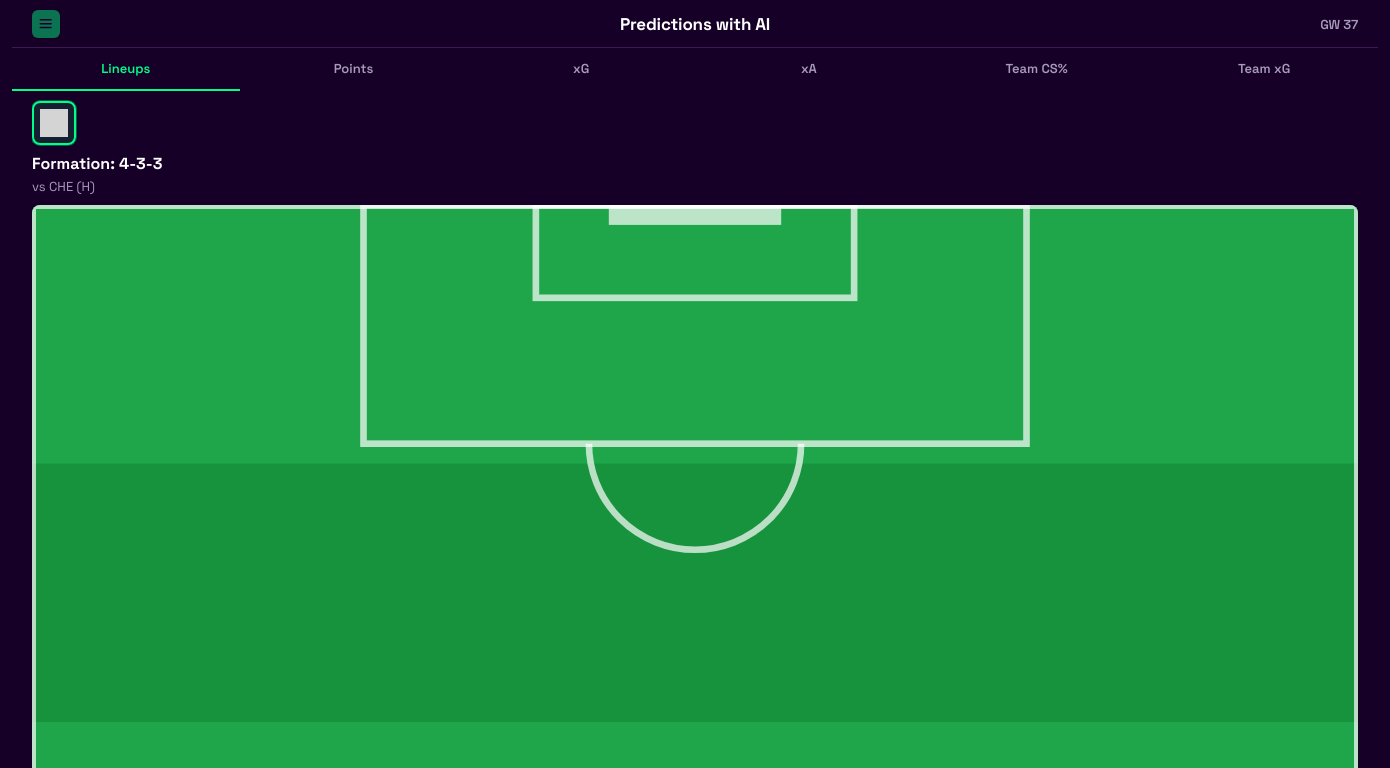
PredictionsScreen › Points tab › shows all players without lock for premium user
The image size is (1390, 768).
Step 1. Click the tab "Points" → [354, 70], box [240,48,467,91]
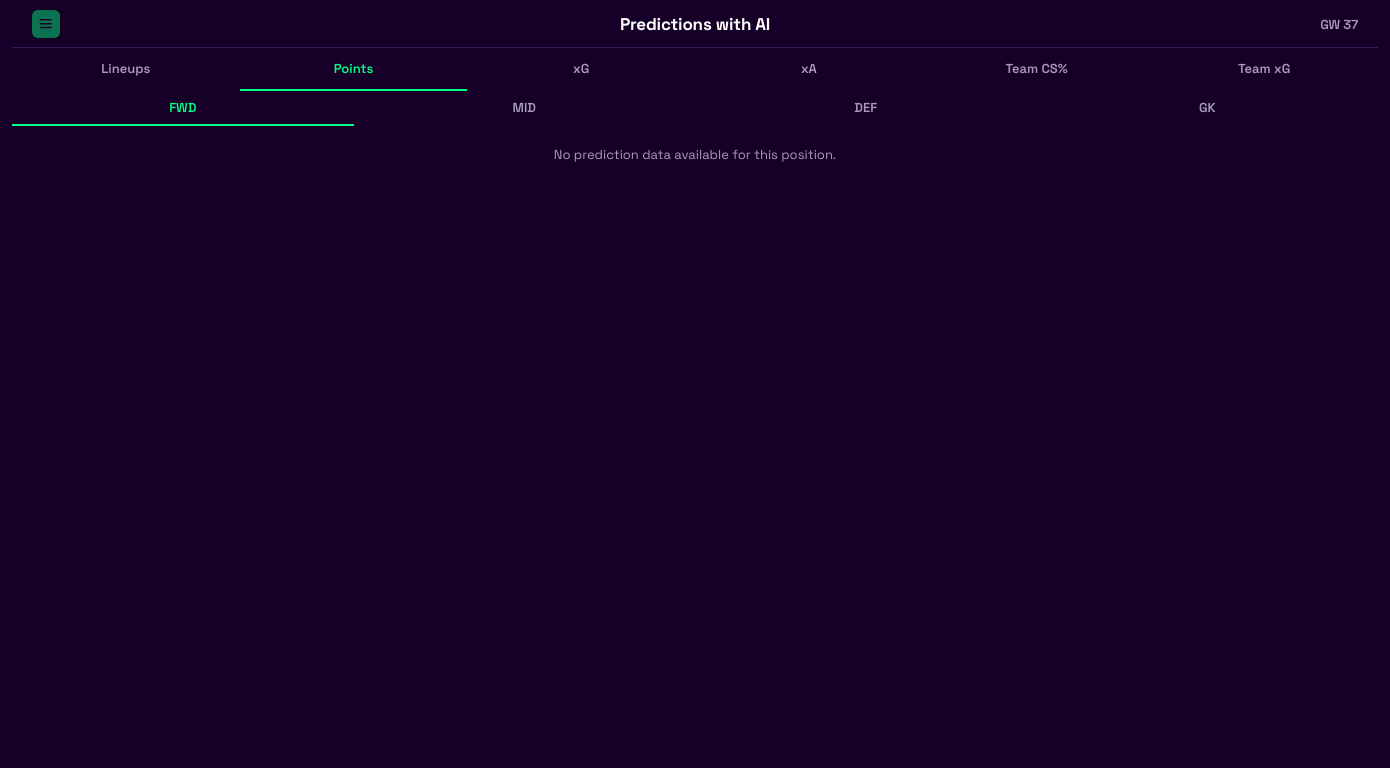
Step 2. Click the tab "MID" → [524, 108], box [354,91,695,126]
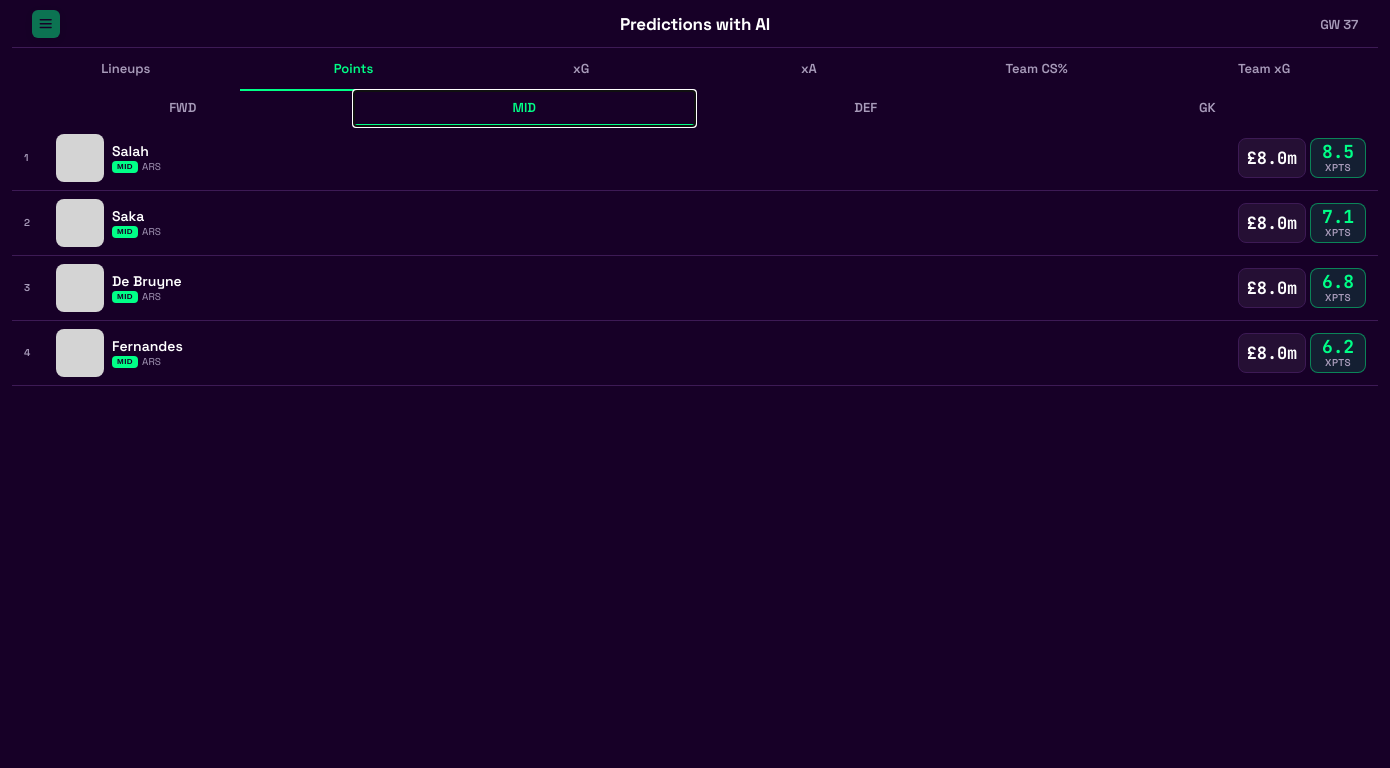
Expected: the text "Salah" is shown, [112,142,149,160]
Expected: the text "Fernandes" is shown, [112,337,183,355]
